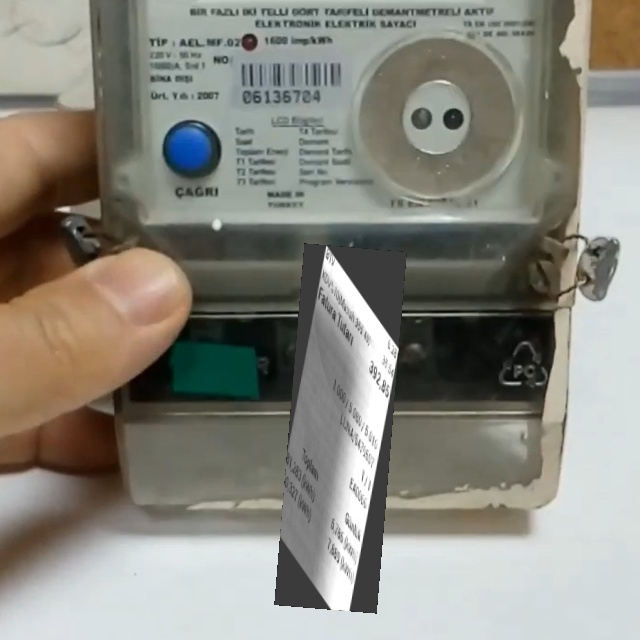electricity-bill: (273, 242, 407, 614)
